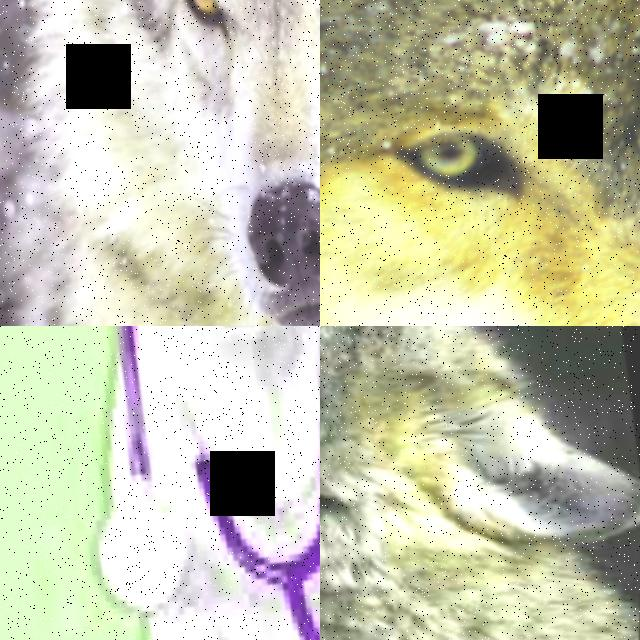dog: (0, 326, 320, 640)
wolf: (0, 0, 320, 326), (320, 0, 640, 326), (320, 326, 640, 640)
